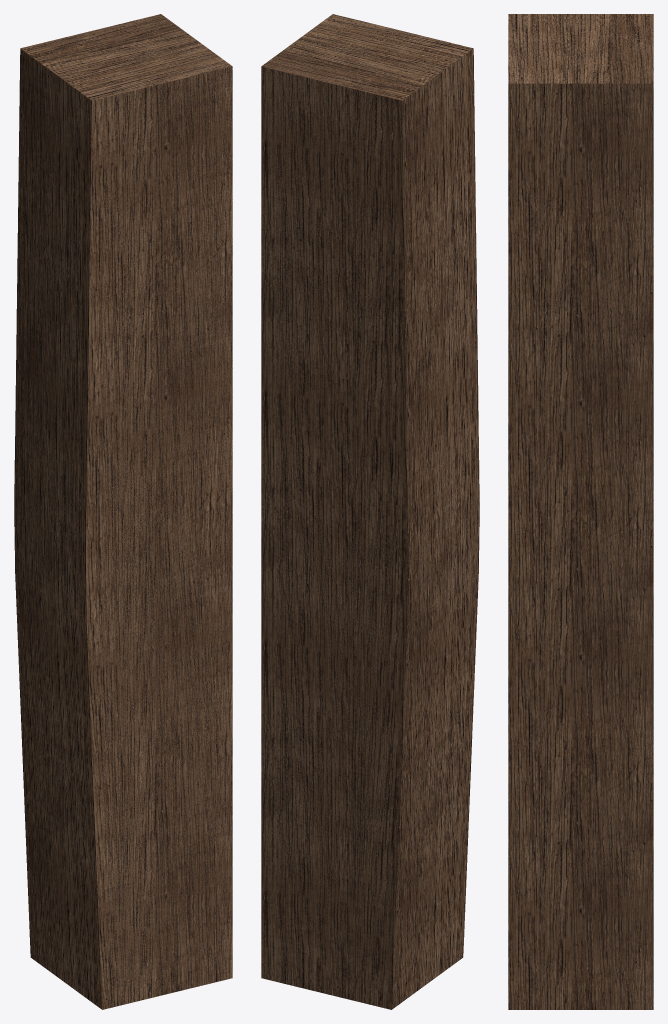
Rendered from CercaColuna.fbx.
The picture shows the model from 3 angles, left to right: view 1: azimuth 30°, elevation 25°; view 2: azimuth 150°, elevation 25°; view 3: azimuth 270°, elevation 25°; orthographic projection.
Visible parts, largest first — view 1: CercaColuna3, CercaColuna1, CercaColuna2; view 2: CercaColuna3, CercaColuna1, CercaColuna2; view 3: CercaColuna1, CercaColuna2, CercaColuna3.
Boxes of the visible parts, x1,y1,x2,y2 form: CercaColuna3: (14, 17, 232, 1009); CercaColuna1: (31, 14, 232, 1008); CercaColuna2: (32, 14, 232, 1008); CercaColuna3: (262, 20, 479, 1009); CercaColuna1: (261, 14, 462, 1009); CercaColuna2: (262, 14, 436, 97); CercaColuna1: (508, 19, 653, 1009); CercaColuna2: (508, 19, 653, 83); CercaColuna3: (508, 14, 653, 78).
Size of the model in its own units: 30.26 by 179 by 25.58.
Materials: 1 (1 with a texture image).
